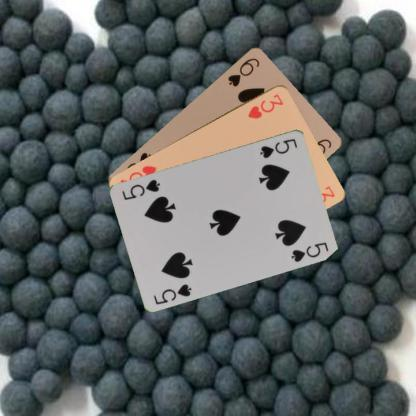3h: (245, 91, 285, 120)
5s: (257, 135, 299, 160), (151, 281, 193, 306)
6s: (225, 55, 261, 88)
